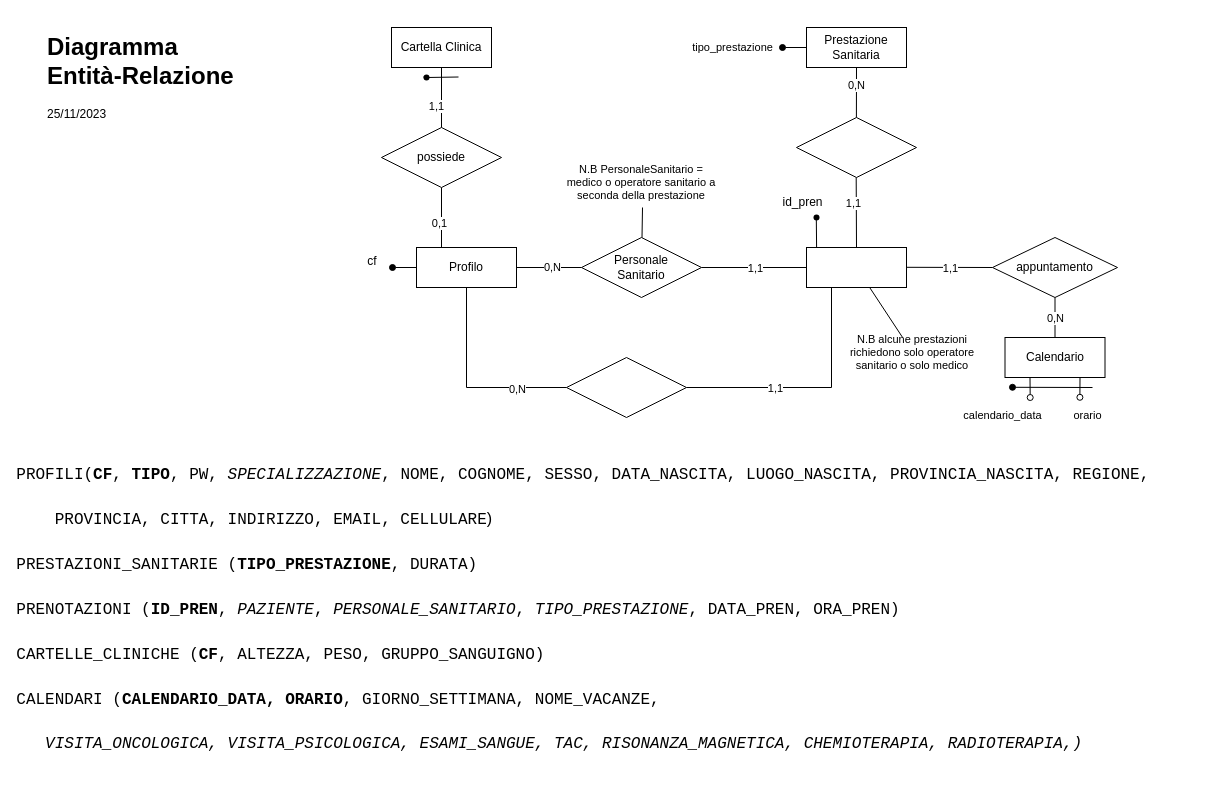
Image size: 1205x792. Some labels were removed from this diagram. The shapes that lost their labels are listed below. From the top down, each one's centre as x and y in pixels, then its label:
At pixel 856 147: "riguarda".
At pixel 856 267: "Prenotazione".
At pixel 626 387: "Paziente".
